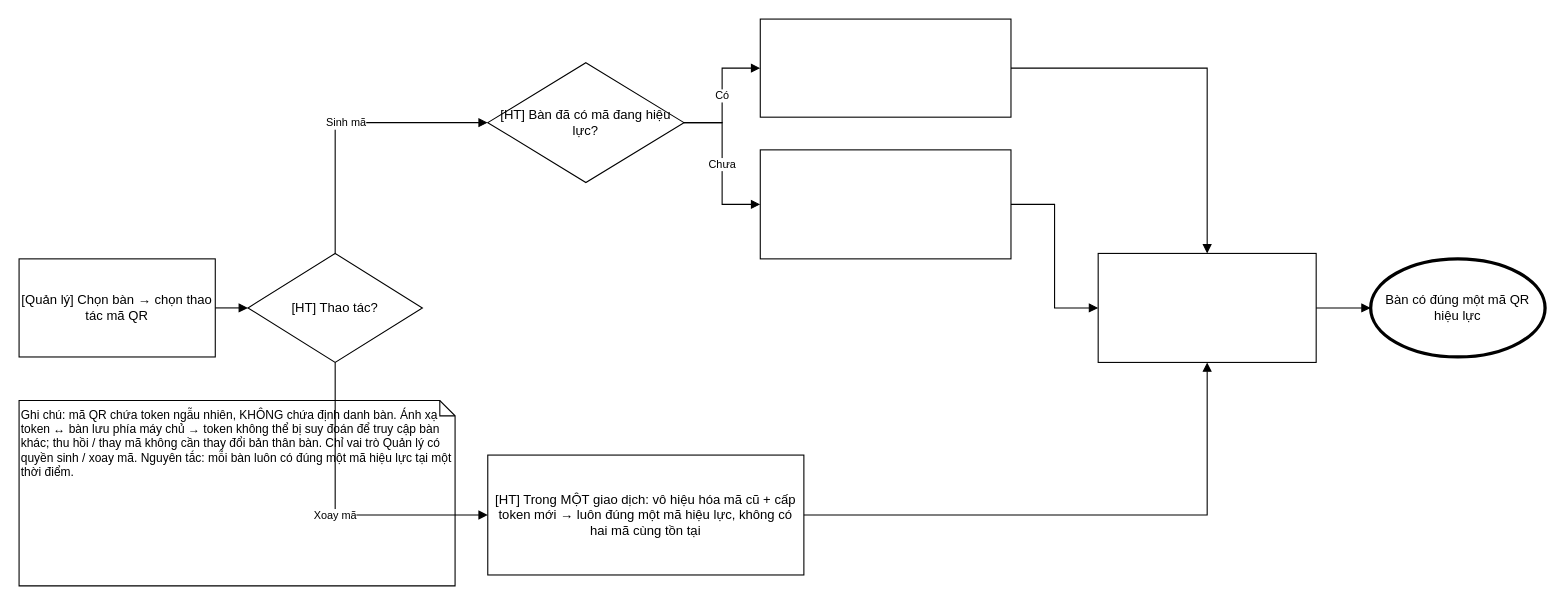
The diagram is 1565 pixels wide and 605 high, and some of its shapes have lost their labels. The centre of each missing label's shape, as x and y in pixels:
[HT] Sinh token mới, lưu ánh xạ token ↔ bàn ở máy chủ, đánh dấu hiệu lực: point (885, 204)
[HT] Trả mã QR cho quản lý để tải / in dán tại bàn: point (1206, 307)
[HT] Trả về đúng mã hiện có (bất biến — gọi lại nhiều lần không tạo mã trùng): point (885, 67)
